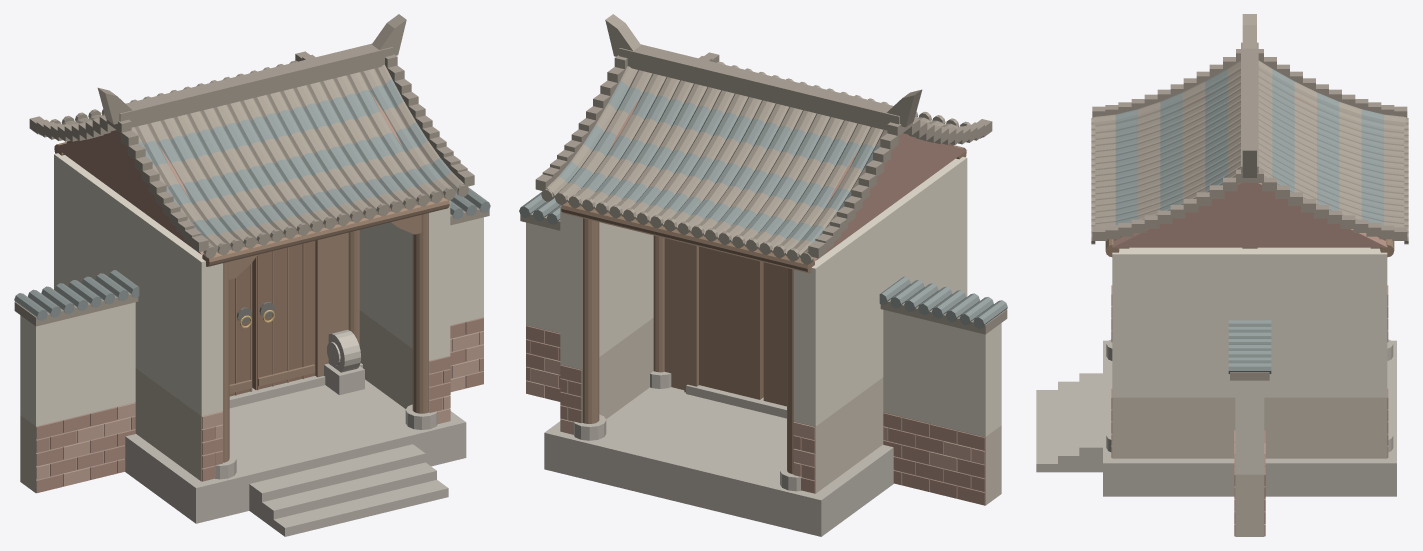
Rendered from Guangliang_Gate.glb.
3 views of the same model, side by side, from view 1: azimuth 30°, elevation 25°; view 2: azimuth 150°, elevation 25°; view 3: azimuth 270°, elevation 25° (orthographic). The views are drawn at different scales.
Parts seen in each view (by area): view 1: Jinzhu Gate; view 2: Jinzhu Gate; view 3: Jinzhu Gate.
Boxes of the visible parts, <box> form: Jinzhu Gate: <box>14,14,490,536</box>; Jinzhu Gate: <box>519,14,1007,536</box>; Jinzhu Gate: <box>1036,14,1408,536</box>.
Size of the model in its own units: 6.38 by 5.1 by 4.87.
